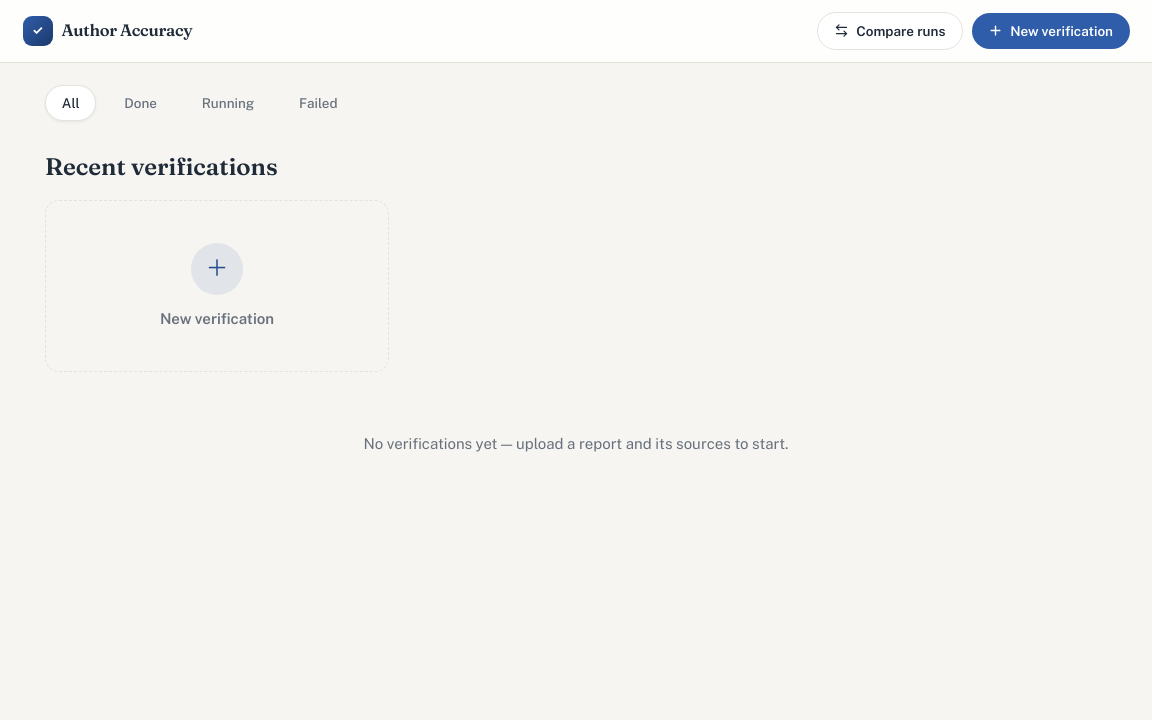
Test: HomePage › opens the upload dialog from the create card
Check: the text "No verifications yet" is shown, box [364, 435, 788, 452]
Click the button with aria-label "Start a new verification".
click(217, 286)  # box [45, 200, 389, 372]
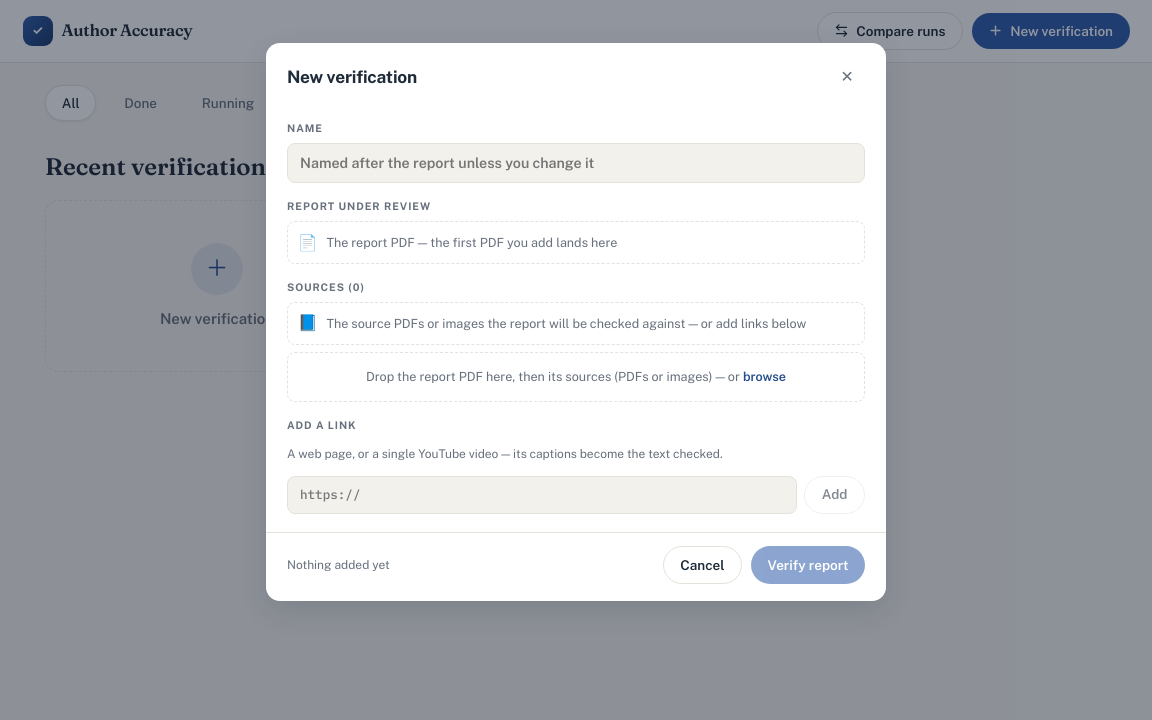
Check: the dialog "New verification" is shown, box [266, 43, 886, 601]
